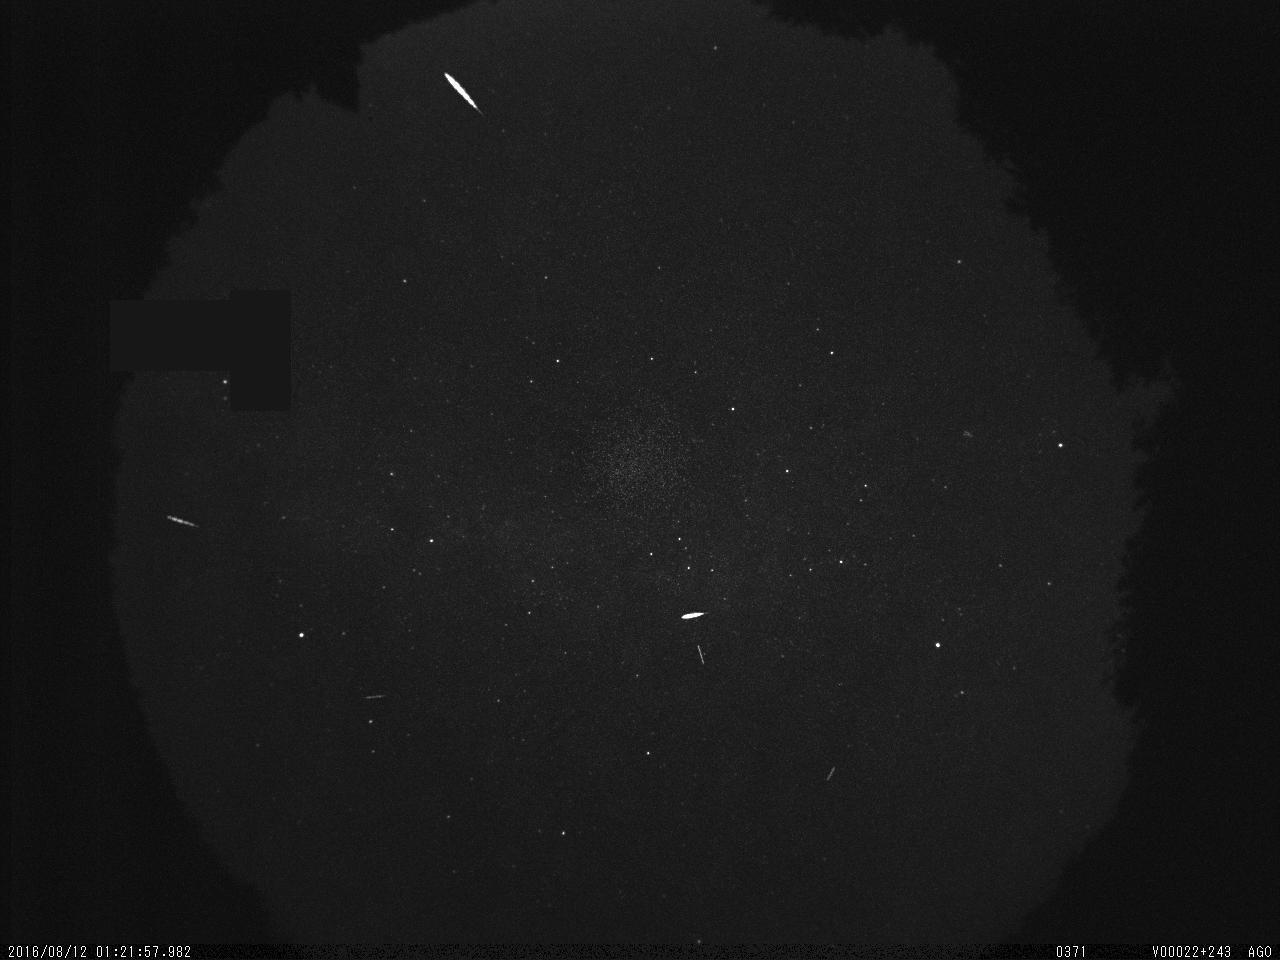meteor: (429, 57, 492, 125), (671, 607, 715, 628)
